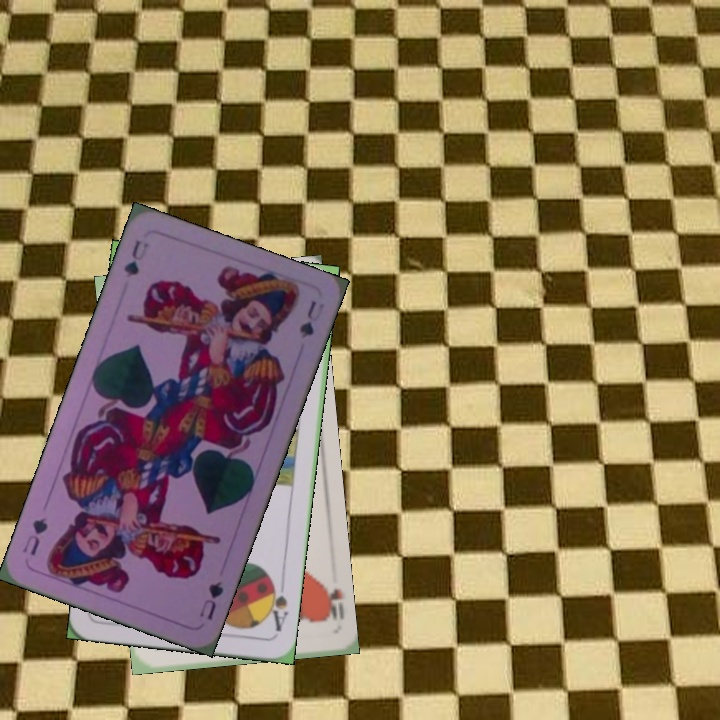GU: (195, 577, 226, 623), (119, 236, 151, 280)
HO: (317, 579, 347, 624)
SA: (263, 576, 291, 634)
